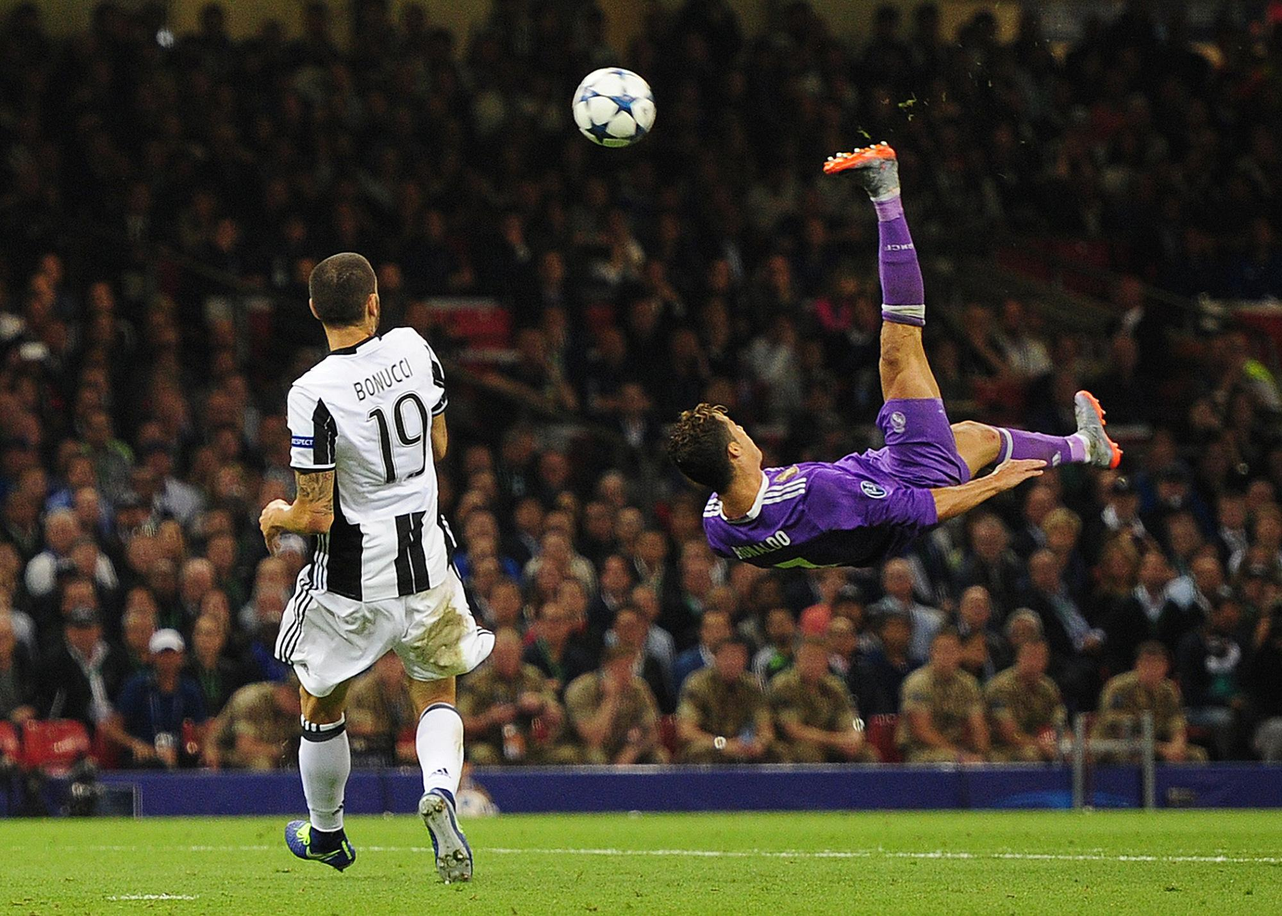ballon_football: (570, 65, 658, 151)
